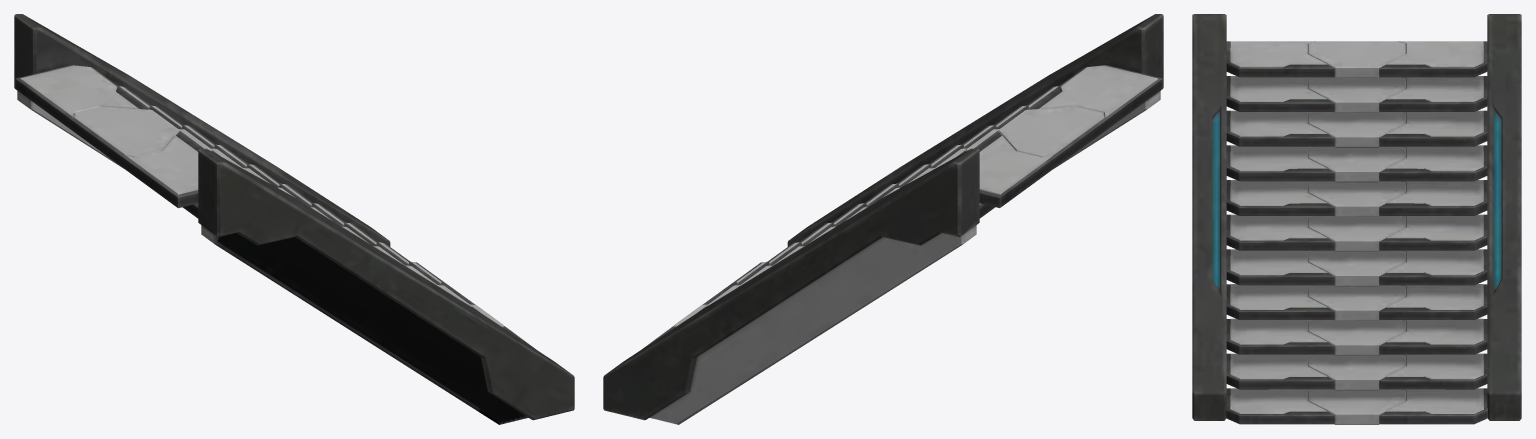
The model's file is SM_Stair_Ancient_7160ed.glb.
3 views of the same model, side by side, from view 1: azimuth 30°, elevation 25°; view 2: azimuth 150°, elevation 25°; view 3: azimuth 270°, elevation 25° (orthographic). The views are drawn at different scales.
Bounding box in the file's own units: 4.44 × 3.59 × 4.
1 material, 1 textured.
